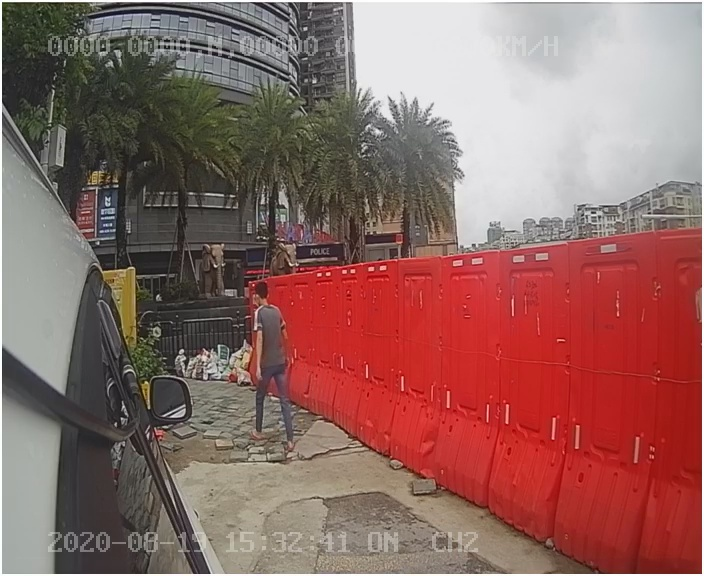person: (235, 279, 313, 455)
